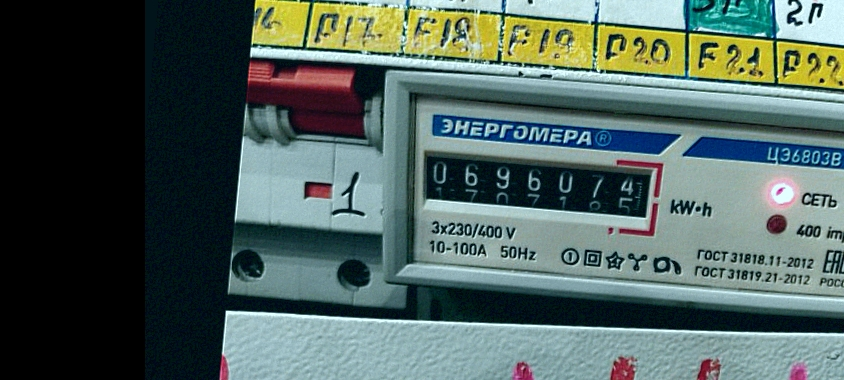0: (430, 159, 451, 186), (556, 168, 576, 196)
4: (619, 173, 637, 196)
5: (617, 196, 634, 217)
6: (524, 165, 545, 194), (462, 161, 482, 188)
7: (588, 172, 607, 200)
9: (494, 163, 512, 191)
screen: (409, 137, 668, 241)
